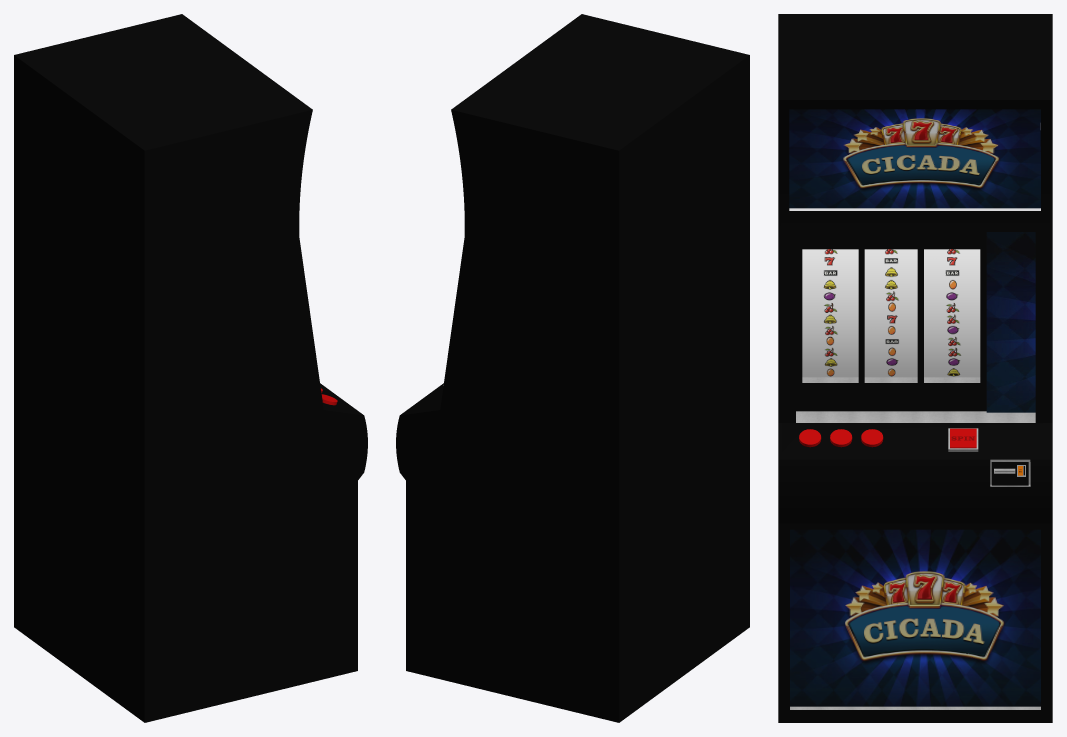
File: slot_machine.glb
3 renders of one model, left to right at view 1: azimuth 30°, elevation 25°; view 2: azimuth 150°, elevation 25°; view 3: azimuth 270°, elevation 25°, orthographic. The views are drawn at different scales.
Parts seen in each view (by area): view 1: Mesh1_Plastic_0; view 2: Mesh1_Plastic_0; view 3: Mesh1_Plastic_0, Mesh1_Slot2_0, Mesh1_Slot1_0, Slot_Machine1, Mesh1_l1_0, Mesh1_Aluminum_0, Mesh1_l6_0, Mesh1_l4_0, Mesh1_l3_0, Mesh1_l2_0, Mesh1_L5_0, Mesh1_Color_A07_0 (+2 smaller).
Part boxes in pixels (x1,y1,x2,y2): Mesh1_Plastic_0: (14,14,367,722); Mesh1_Plastic_0: (396,14,749,722); Mesh1_Plastic_0: (778,14,1052,722); Mesh1_Slot2_0: (790,529,1040,706); Mesh1_Slot1_0: (789,109,1040,208); Slot_Machine1: (864,232,1035,412); Mesh1_l1_0: (802,249,980,357); Mesh1_Aluminum_0: (790,123,1040,709); Mesh1_l6_0: (802,278,980,377); Mesh1_l4_0: (802,267,980,377); Mesh1_l3_0: (802,255,980,346); Mesh1_l2_0: (802,255,980,324); Mesh1_L5_0: (802,290,980,301); Mesh1_Color_A07_0: (799,429,976,448).
Size of the model in its own units: 0.1307 by 0.318 by 0.1318.
Materials: 18 (13 with a texture image).
